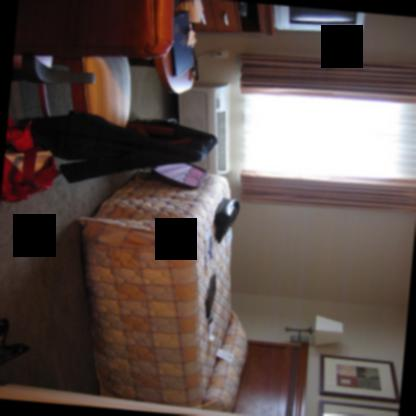backpack: (2, 148, 58, 204)
handbag: (213, 197, 239, 243)
suitcase: (148, 163, 212, 190)
